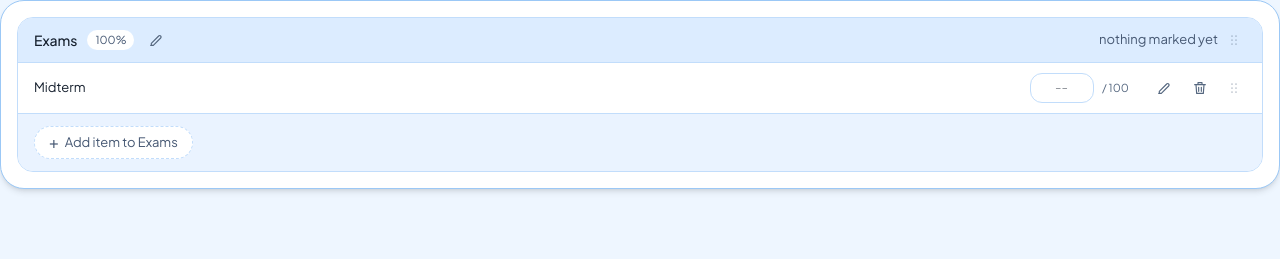
Scenario: the grade table, knowing what you are typing into › names the item being edited
The image size is (1280, 259).
What coordinates should you click on to do the following:
click the button named "Edit Midterm"
I would click on:
 (1164, 88)
Its box is 1150,74 -> 1178,102.
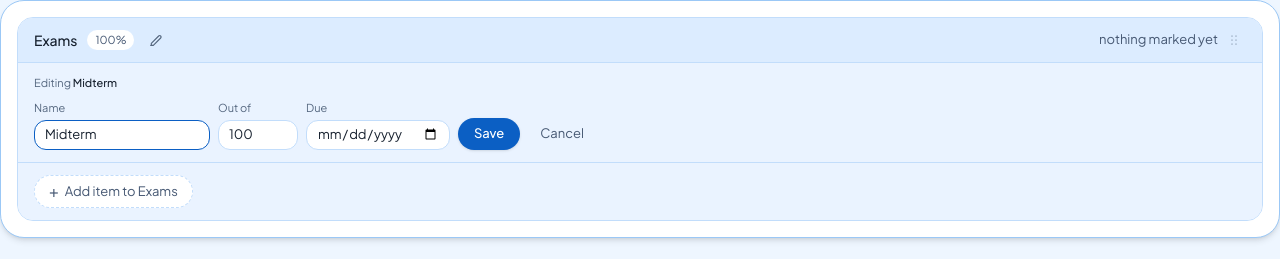
expect the text "Midterm" is shown: met, box 73,76 -> 117,89
expect the text "Editing Midterm" is shown: met, box 34,76 -> 117,89
